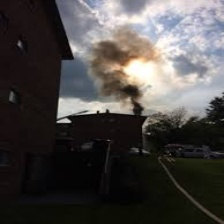smoke: (86, 32, 163, 113)
